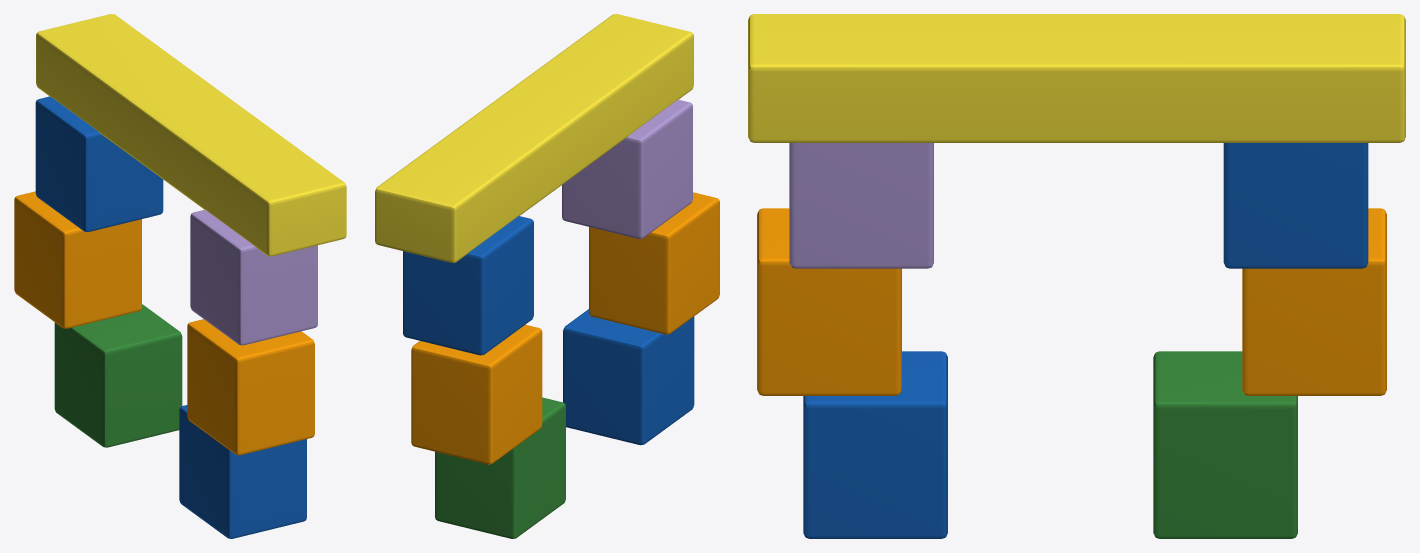
3 views of the same model, side by side, from view 1: azimuth 30°, elevation 25°; view 2: azimuth 150°, elevation 25°; view 3: azimuth 270°, elevation 25° (orthographic). The views are drawn at different scales.
Parts seen in each view (by area): view 1: base_08; view 2: base_08; view 3: base_08.
Part boxes in pixels (<box>): base_08: <box>14,14,346,538</box>; base_08: <box>375,14,719,538</box>; base_08: <box>748,14,1405,538</box>.
Bounding box in the file's own units: 2970 × 9142 × 11145.
Materials: 1 (1 with a texture image).
